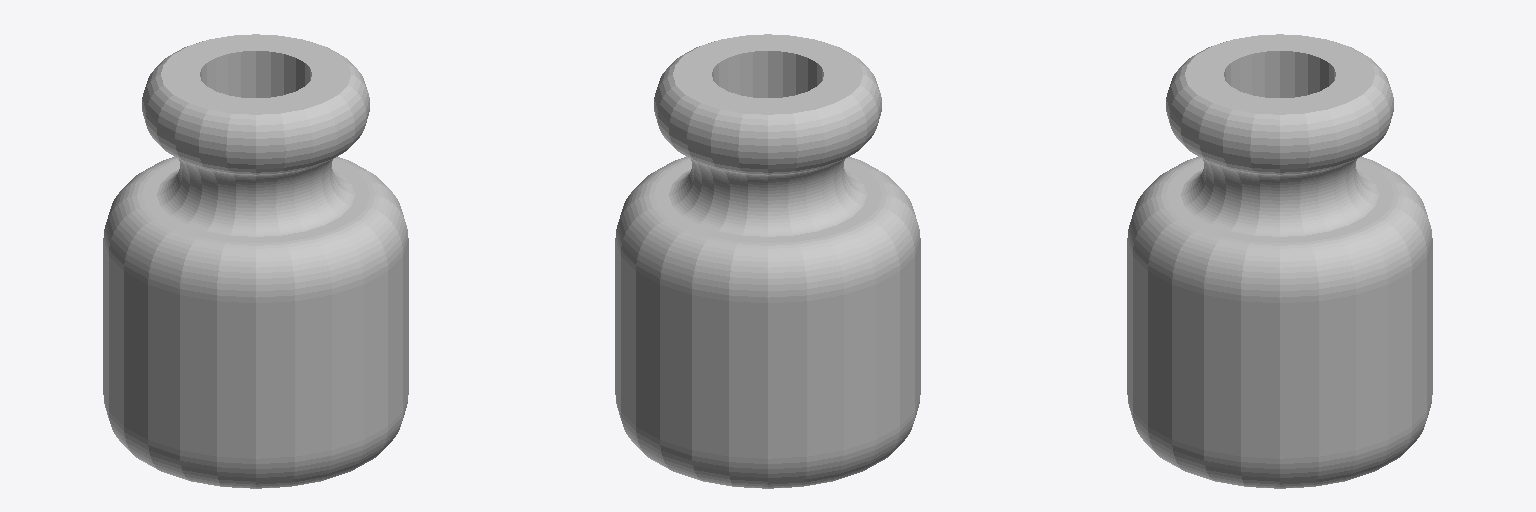
Rendered from setPotions__11.obj.
3 views of the same model, side by side, from view 1: azimuth 30°, elevation 25°; view 2: azimuth 150°, elevation 25°; view 3: azimuth 270°, elevation 25° (orthographic).
Visible parts, largest first — view 1: grp11; view 2: grp11; view 3: grp11.
Part boxes in pixels (left/top/right/bottom): grp11: left=103, top=34, right=408, bottom=488; grp11: left=615, top=34, right=920, bottom=488; grp11: left=1127, top=34, right=1432, bottom=488.
Size of the model in its own units: 2.89 by 3.79 by 2.89.